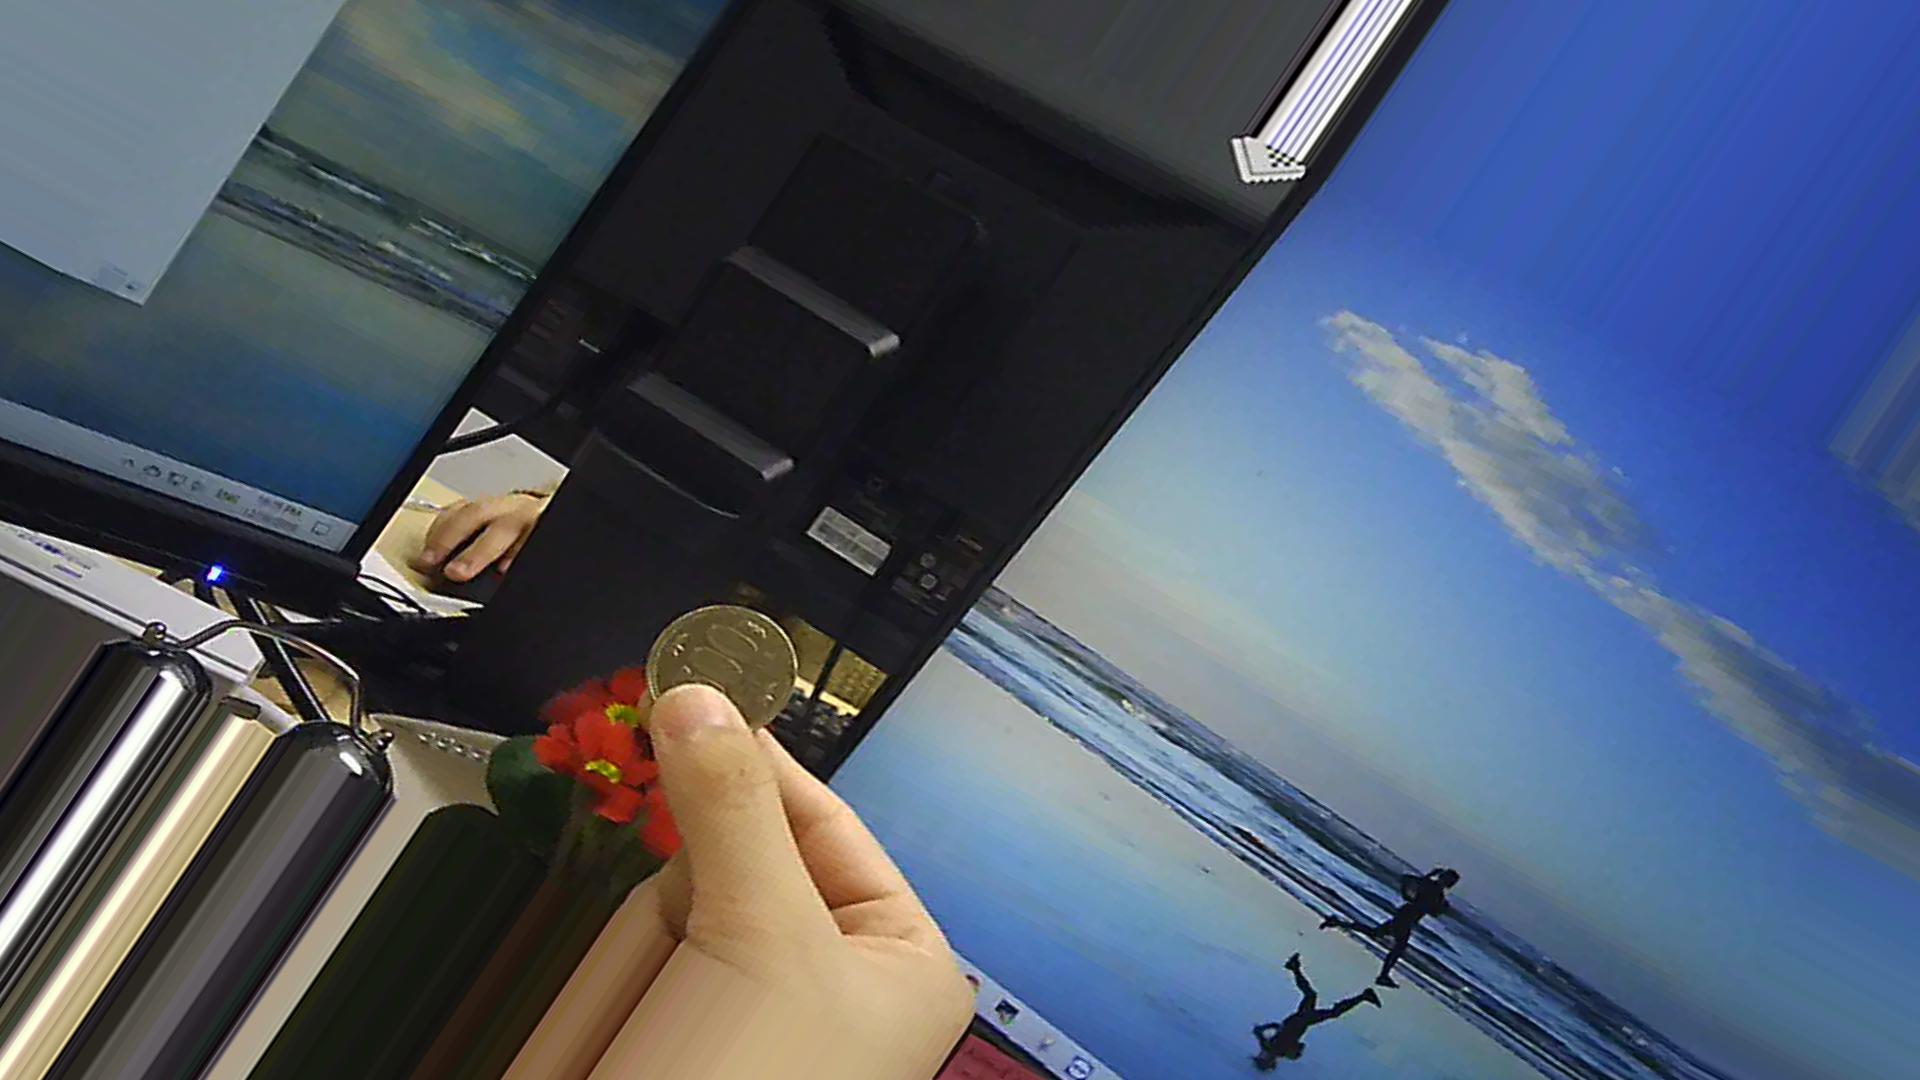500 Yen: (636, 585, 796, 738)
